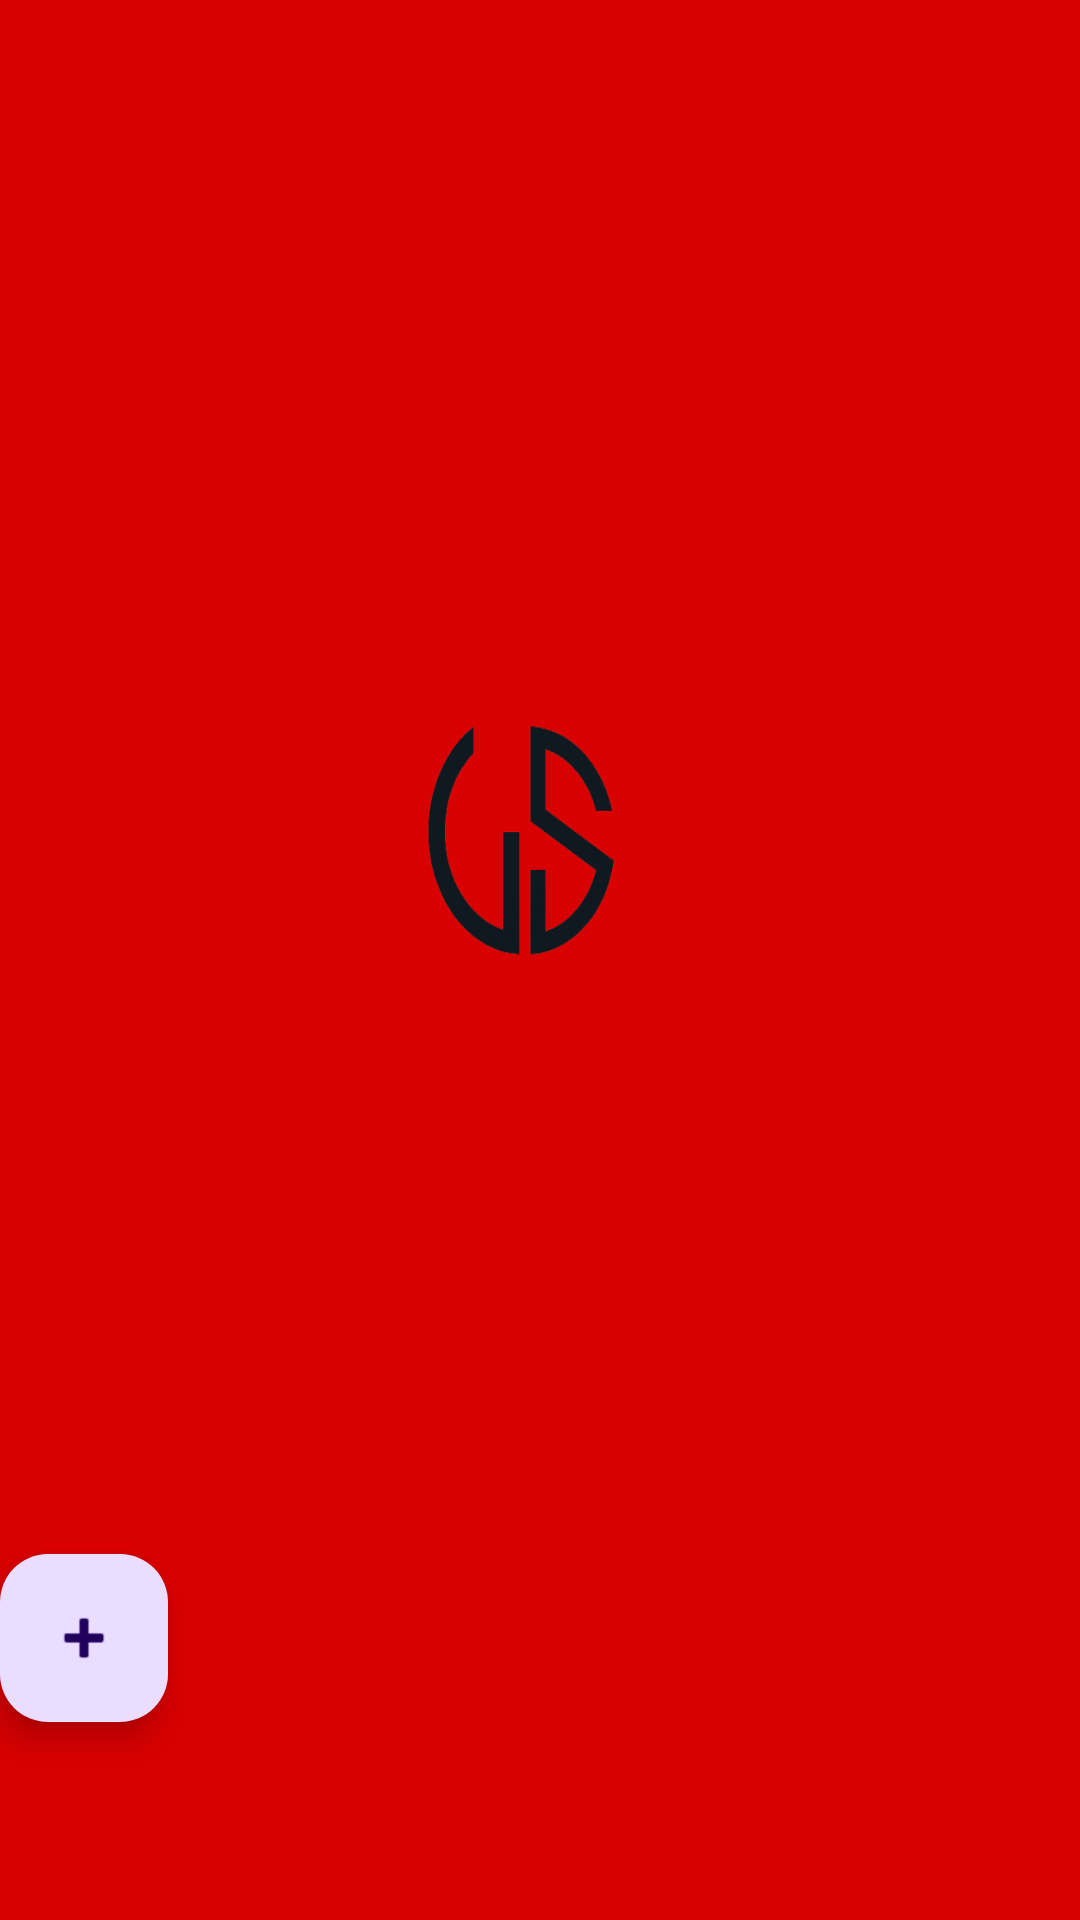

Icon click points for this 1080px×1920px phone screenshot, format (x,y):
add: (84,1638)
